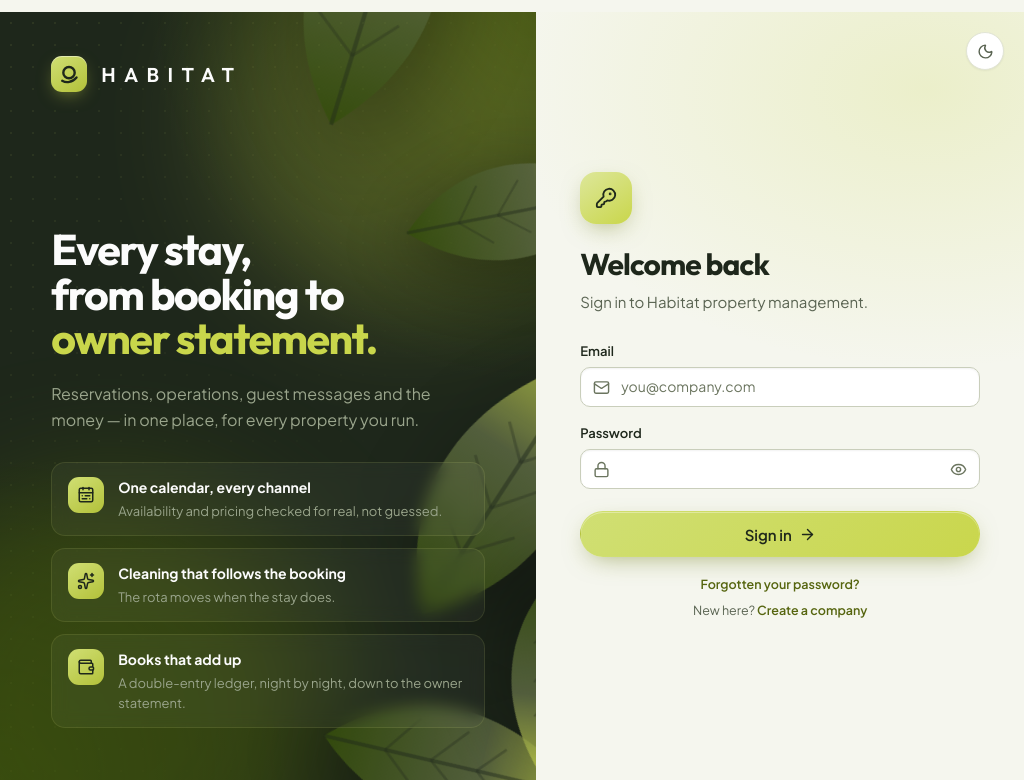
signing in › shows the server’s own refusal rather than a generic one
Type "ana@habitat.test" into the field labelled "Email" at (780, 387), box x1=580 y1=367 x2=980 y2=407
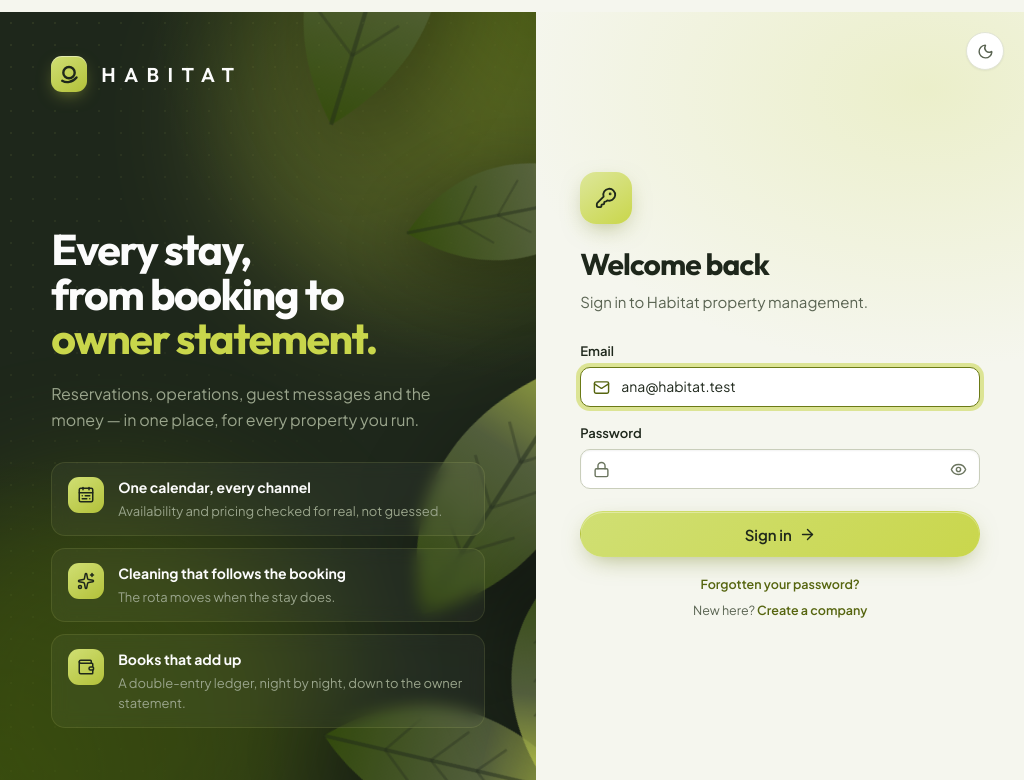
Type "correct-horse" into the password field labelled "Password" at (780, 469), box x1=580 y1=449 x2=980 y2=489
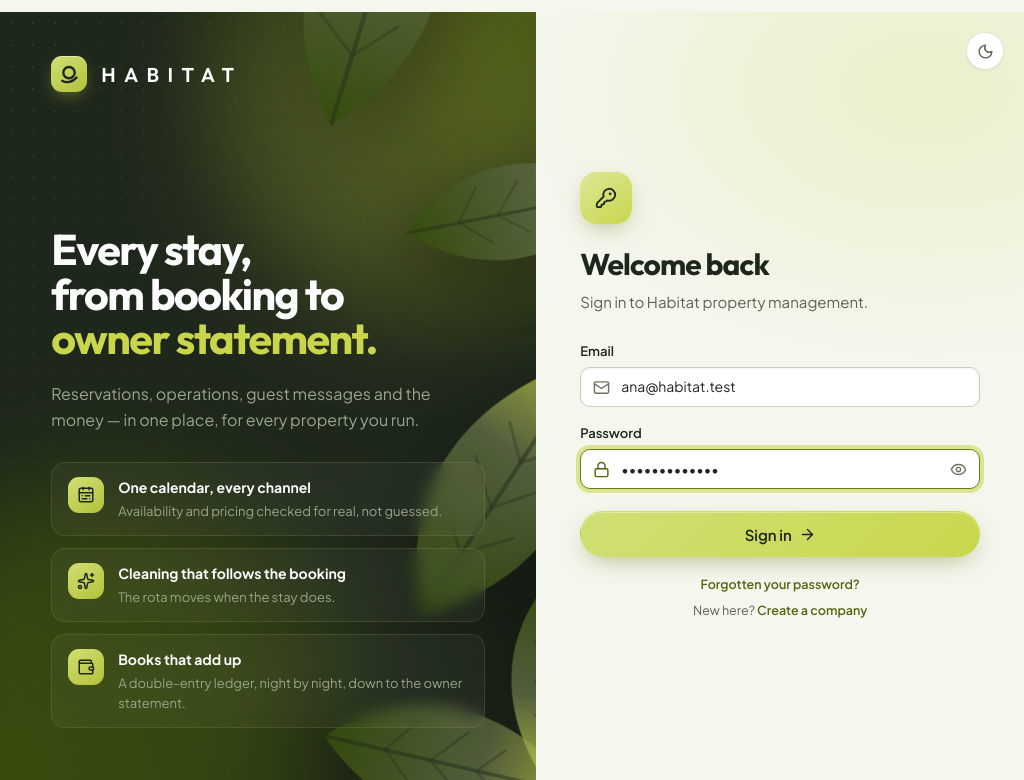
Click the button "Sign in" at (780, 534), box x1=580 y1=511 x2=980 y2=557
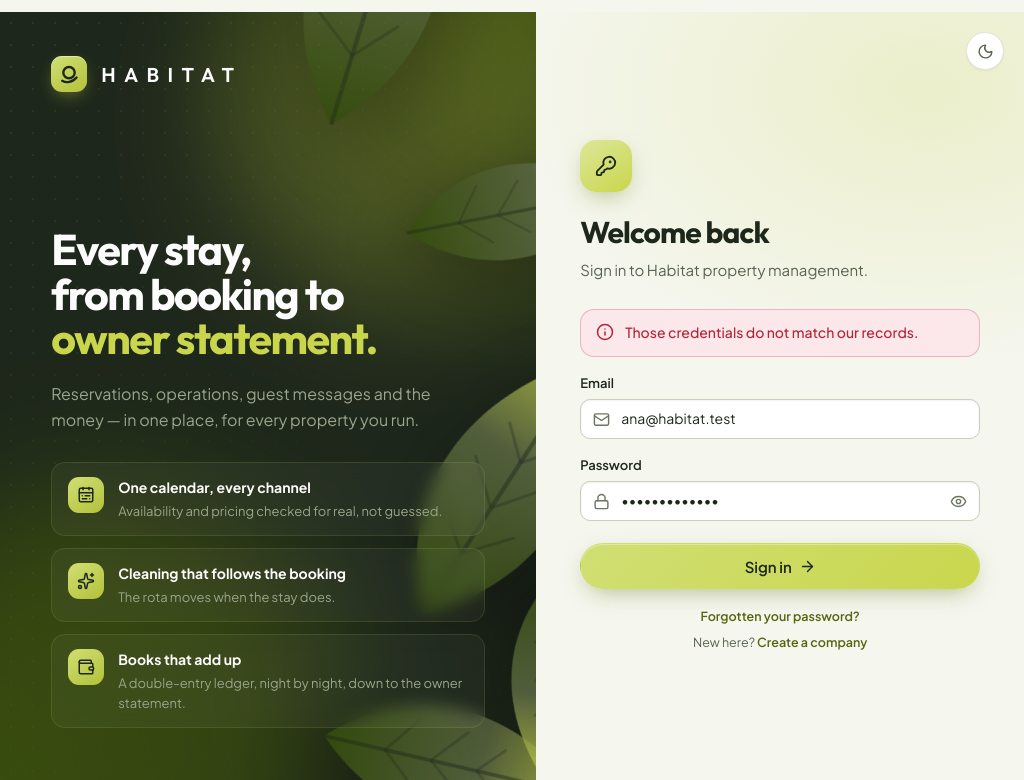
Expected: the message reads "Those credentials do not match our records.", x1=625 y1=323 x2=918 y2=341
